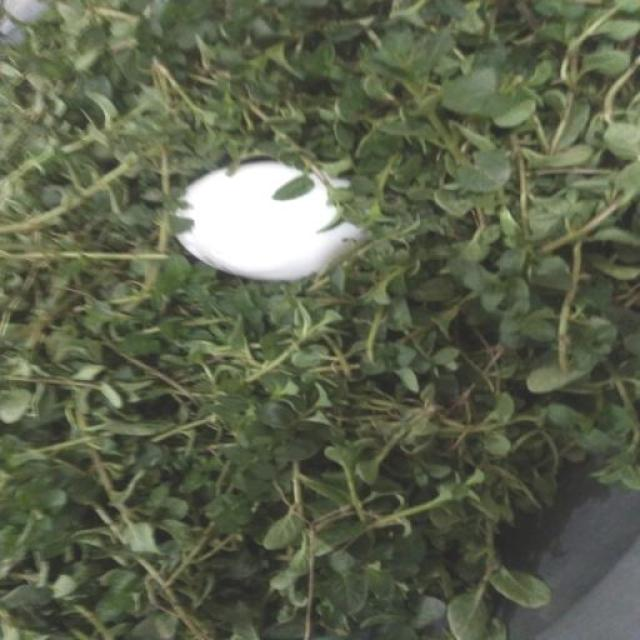telur: (169, 158, 381, 294)
